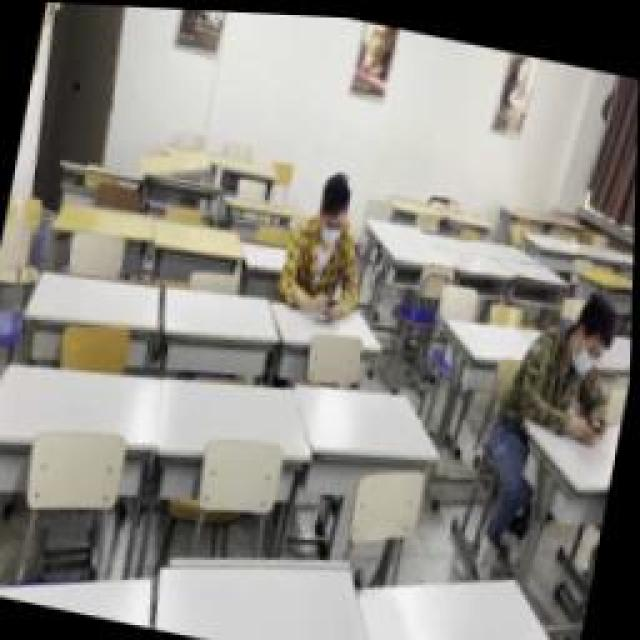phone: (527, 275, 635, 440), (280, 168, 378, 318)
